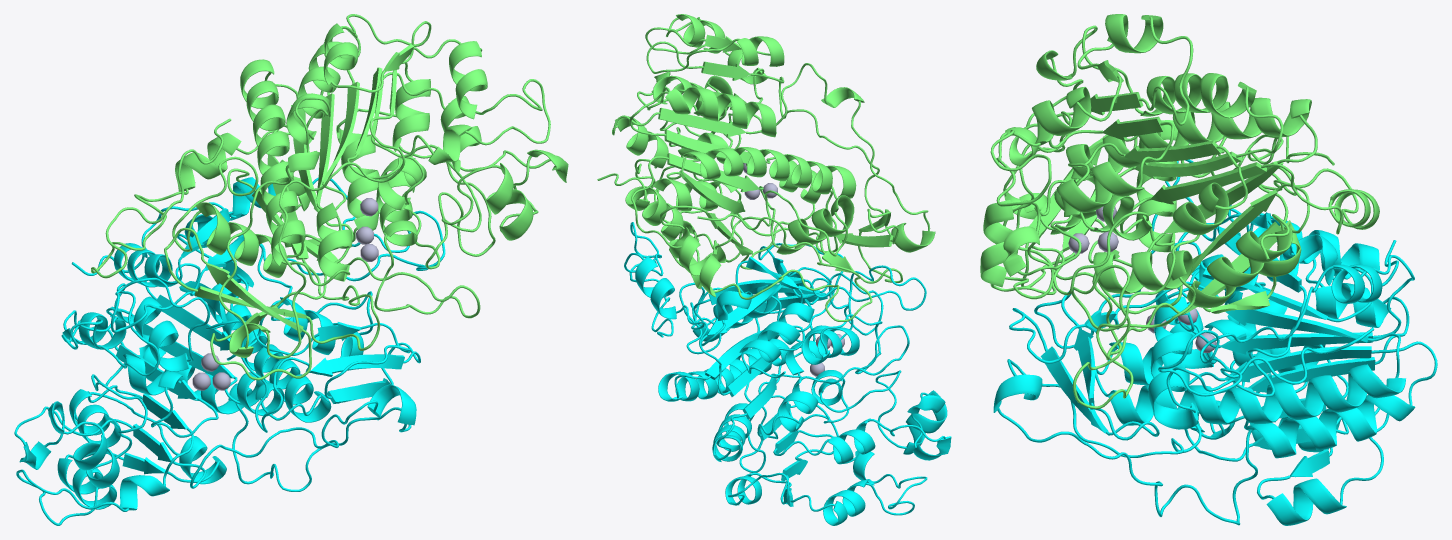
Rendered from 1hqa.gltf.
3 views of the same model, side by side, from view 1: azimuth 30°, elevation 25°; view 2: azimuth 150°, elevation 25°; view 3: azimuth 270°, elevation 25° (orthographic). The views are drawn at different scales.
Parts seen in each view (by area): view 1: node-geom8, node-geom10, node-geom7, node-geom6, node-geom11, node-geom9, node-geom12; view 2: node-geom8, node-geom10, node-geom6, node-geom9, node-geom11, node-geom7, node-geom12; view 3: node-geom11, node-geom7, node-geom8, node-geom6, node-geom9, node-geom10, node-geom12.
Boxes of the visible parts, box(x1,y1,x2,y2) form: node-geom8: box(164, 28, 380, 380); node-geom10: box(14, 310, 377, 525); node-geom7: box(218, 14, 568, 359); node-geom6: box(91, 62, 495, 318); node-geom11: box(106, 263, 420, 491); node-geom9: box(61, 108, 445, 376); node-geom12: box(71, 208, 310, 432); node-geom8: box(629, 63, 902, 287); node-geom10: box(725, 278, 951, 525); node-geom6: box(612, 108, 872, 321); node-geom9: box(597, 173, 926, 396); node-geom11: box(658, 243, 882, 472); node-geom7: box(637, 14, 935, 252); node-geom12: box(701, 256, 883, 378); node-geom11: box(993, 240, 1437, 525); node-geom7: box(980, 14, 1193, 299); node-geom8: box(990, 25, 1317, 314); node-geom6: box(1068, 120, 1379, 409); node-geom9: box(1148, 159, 1414, 429); node-geom10: box(1009, 268, 1409, 525); node-geom12: box(1037, 212, 1398, 329).
Size of the model in its own units: 76.93 by 78.58 by 59.39.
